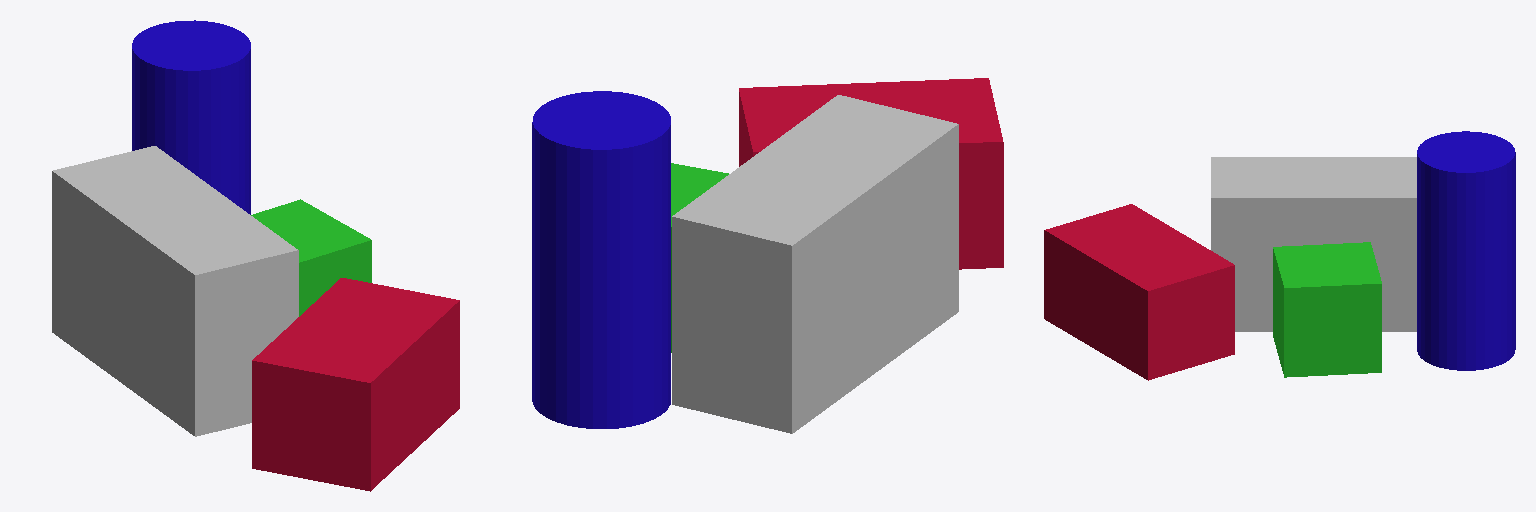
robot.urdf — scene:
<?xml version="1.0" ?>
<robot name="scene">
  <link name="scene"> 
     <visual> 
        <origin rpy="0 0 -1.57" xyz="-0.8 0 0"/> 
        <geometry> 
          <mesh filename="./scene.dae" scale="0.1 0.1 0.1"/> 
        </geometry> 
     </visual> 
  </link>
</robot>  

--- Render facts (derived) ---
Views: 3 orthographic renders of the robot side by side, from view 1: azimuth 30°, elevation 25°; view 2: azimuth 150°, elevation 25°; view 3: azimuth 270°, elevation 25°.
Model scene with 1 links and 0 joints (none), rooted at scene, posed every joint at zero.
Visible links, largest first — view 1: scene; view 2: scene; view 3: scene.
Link boxes in pixels (left/top/right/bottom): scene: left=52, top=20, right=459, bottom=491; scene: left=532, top=78, right=1003, bottom=433; scene: left=1044, top=131, right=1515, bottom=380.
Size in the robot's own frame: 0.4393 by 0.956 by 0.4452 metres.
1 mesh visuals loaded from 1 distinct referenced files (1 Collada DAE).